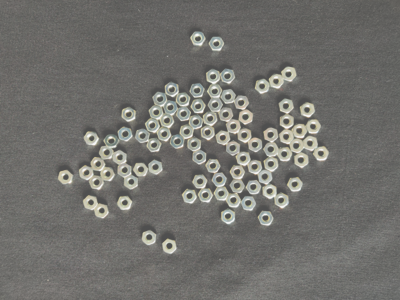nut: (303, 136, 319, 152), (300, 102, 316, 118), (94, 203, 110, 219), (313, 146, 329, 161), (292, 124, 308, 139), (287, 177, 303, 192), (275, 193, 290, 209), (279, 99, 295, 114), (279, 129, 295, 144), (277, 147, 293, 162), (258, 211, 274, 226), (264, 127, 279, 143), (209, 37, 225, 52), (191, 31, 206, 47), (248, 137, 263, 153), (241, 196, 257, 211), (234, 95, 250, 110), (239, 109, 254, 125), (226, 119, 242, 134), (219, 107, 234, 123), (216, 130, 231, 146), (191, 99, 207, 114), (182, 189, 198, 204), (142, 230, 157, 246), (170, 134, 185, 150), (145, 118, 161, 133), (118, 126, 133, 142), (117, 196, 133, 211), (83, 196, 99, 211), (58, 170, 74, 185), (238, 127, 252, 144), (294, 153, 309, 168), (282, 67, 297, 82), (269, 74, 284, 89), (255, 79, 270, 94), (264, 157, 279, 172), (258, 170, 273, 185), (248, 160, 263, 175), (221, 69, 236, 84), (206, 69, 221, 84), (236, 151, 251, 166), (221, 89, 236, 104), (226, 141, 241, 156), (203, 111, 218, 126), (201, 125, 216, 140), (190, 83, 205, 98), (189, 115, 204, 130), (199, 188, 214, 203), (187, 137, 202, 152), (180, 125, 195, 140), (177, 107, 192, 122), (176, 92, 191, 107), (165, 82, 180, 97), (153, 92, 168, 107), (160, 113, 175, 128), (157, 127, 172, 142), (149, 105, 164, 120), (135, 129, 150, 144), (148, 160, 163, 175), (122, 107, 137, 122), (124, 175, 139, 190), (90, 175, 105, 190), (306, 120, 322, 134), (263, 143, 279, 157), (263, 183, 277, 199), (246, 181, 262, 195), (230, 165, 246, 179), (226, 194, 242, 208), (208, 98, 224, 112), (212, 173, 228, 187), (193, 149, 207, 165), (164, 100, 178, 116), (104, 135, 120, 149), (84, 132, 100, 146), (290, 139, 305, 153), (280, 114, 294, 129), (208, 84, 223, 98), (206, 159, 221, 173), (214, 187, 229, 201), (193, 175, 208, 189), (163, 239, 177, 254), (147, 138, 162, 152), (134, 163, 149, 177), (118, 163, 132, 178), (113, 150, 127, 165), (99, 146, 114, 160), (101, 167, 116, 181), (91, 158, 106, 172), (80, 166, 94, 181), (222, 209, 235, 225), (230, 180, 245, 193)
